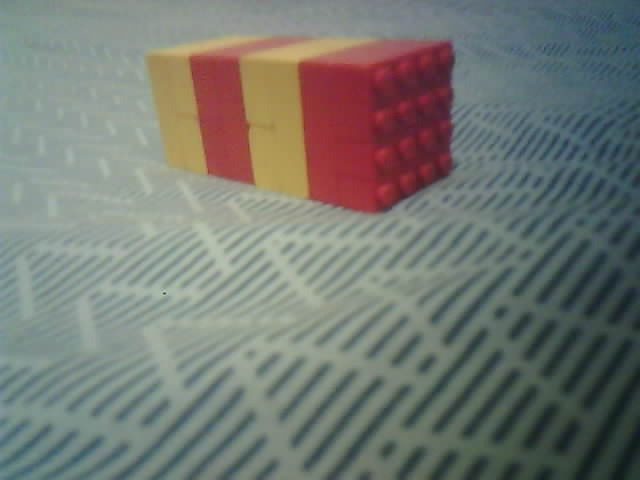lego: (143, 32, 457, 215)
